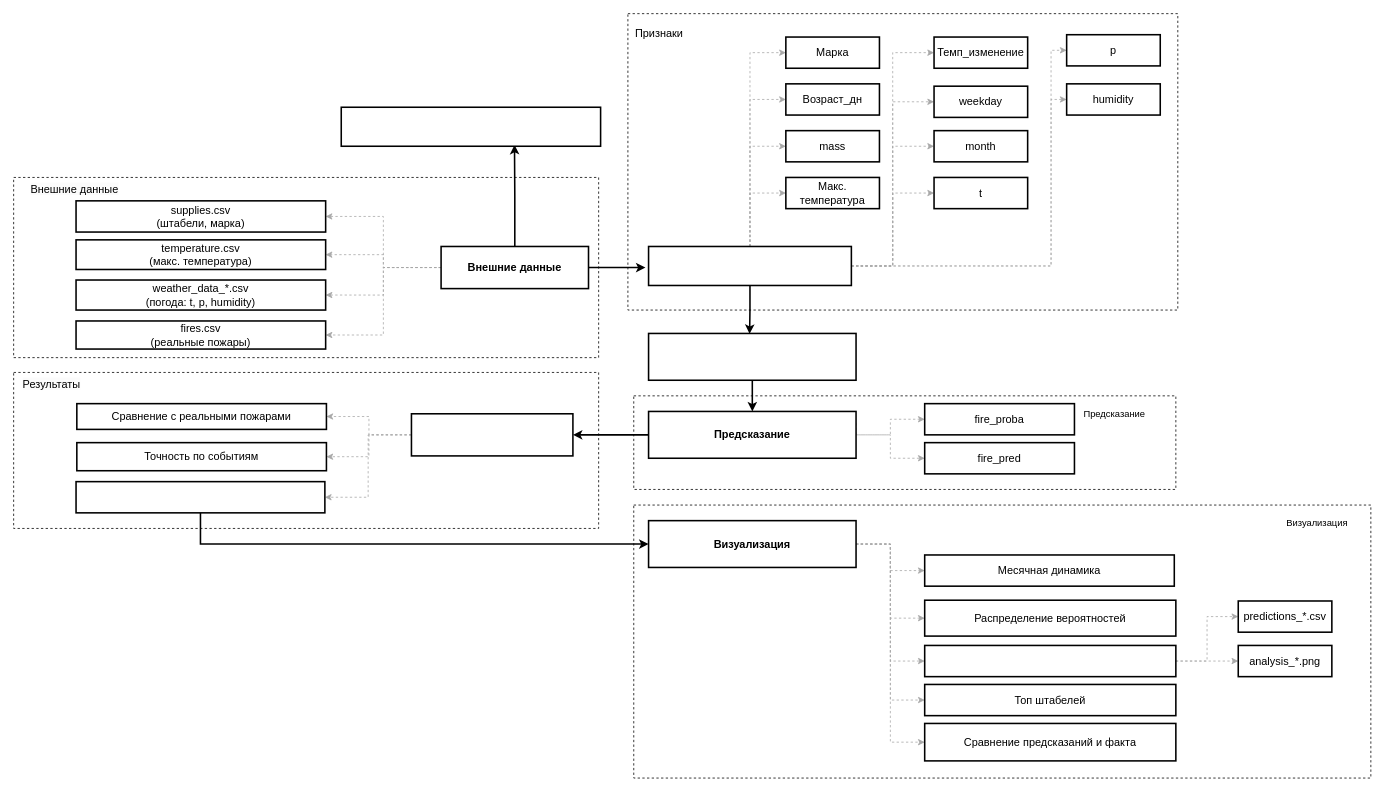
The diagram is 1385 pixels wide and 792 high, and some of its shapes have lost their labels. The shapes that lost their labels are listed below. From the top down, each one's centre as x and y in pixels, then its label:
At [470,126]: "Генерация наблюдений (2019 и 2020 гг.)".
At [749,265]: "Формирование признаков".
At [751,356]: "CoalFirePredictor (RandomForestClassifier + LabelEncoder)".
At [491,434]: "Анализ результатов".
At [200,496]: "Точность по штабелям".
At [1050,660]: "Сохранение результатов".
